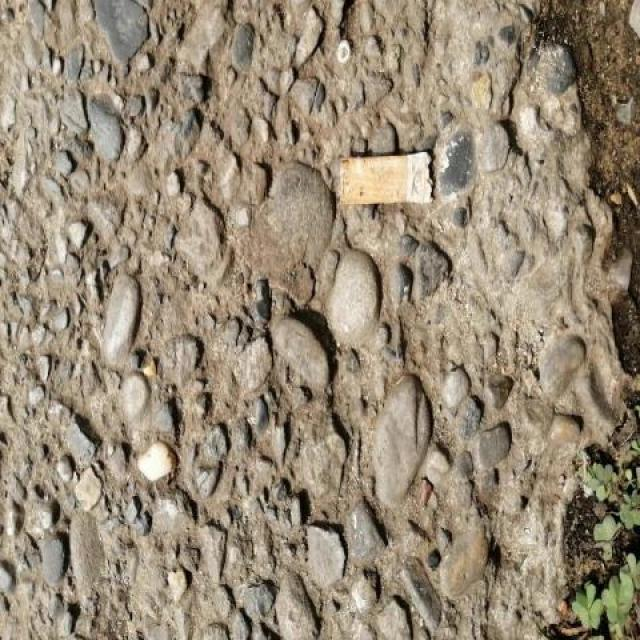non-organic waste: (335, 144, 437, 211)
